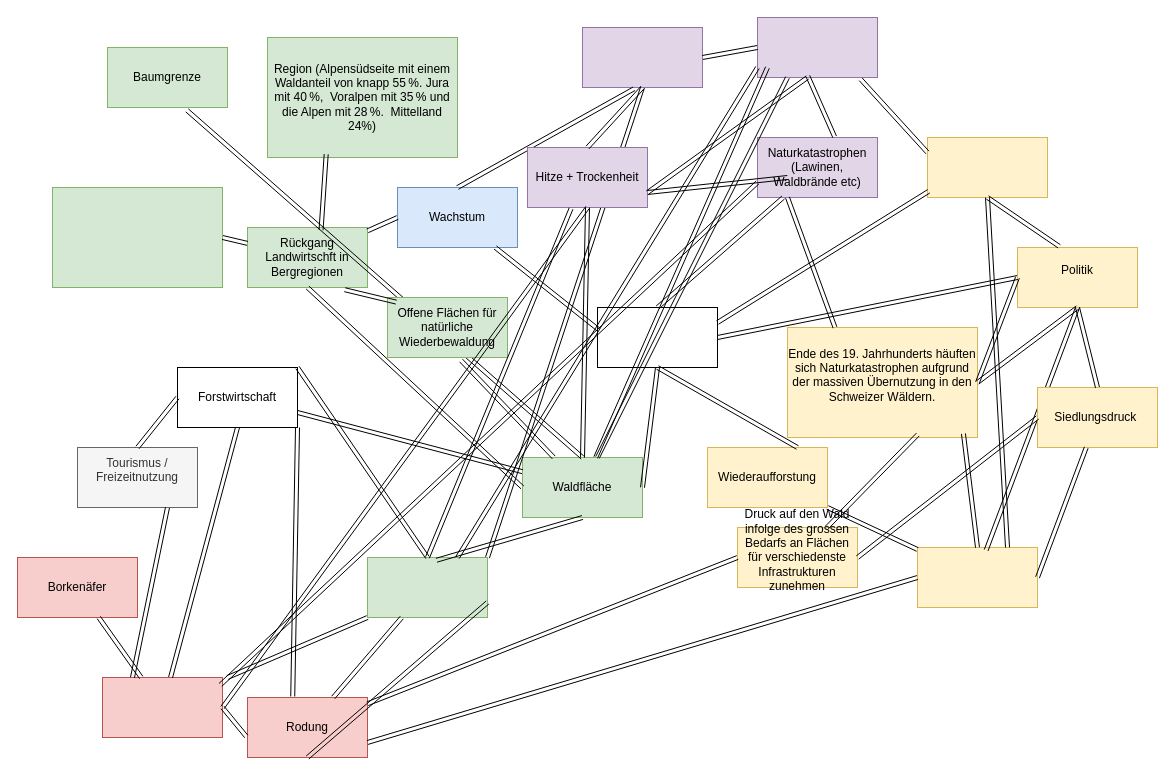
The diagram is 1175 pixels wide and 777 high, and some of its shapes have lost their labels. The shapes that lost their labels are listed below. From the top down, each one's centre as x and y in pixels, then its label:
At (642,57): "Klima Bedingungen".
At (817,47): "Klima Ereignisse".
At (987,167): "Umweltschutz".
At (137,237): "Intensivierung/Mechanisierung Landwirtschaft".
At (657,337): "Schutzwaldflächen".
At (427,587): "Waldgesundheit".
At (977,577): "Waldgesetz".
At (162,707): "Anteil toter/ geschädigter Bäume (totholz)".
